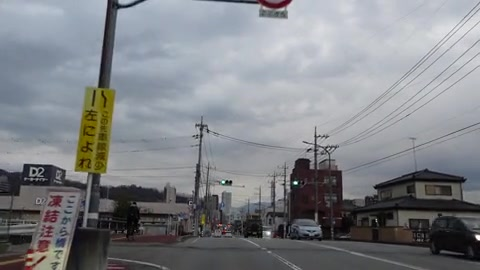traffic_sign: (220, 201, 225, 208)
